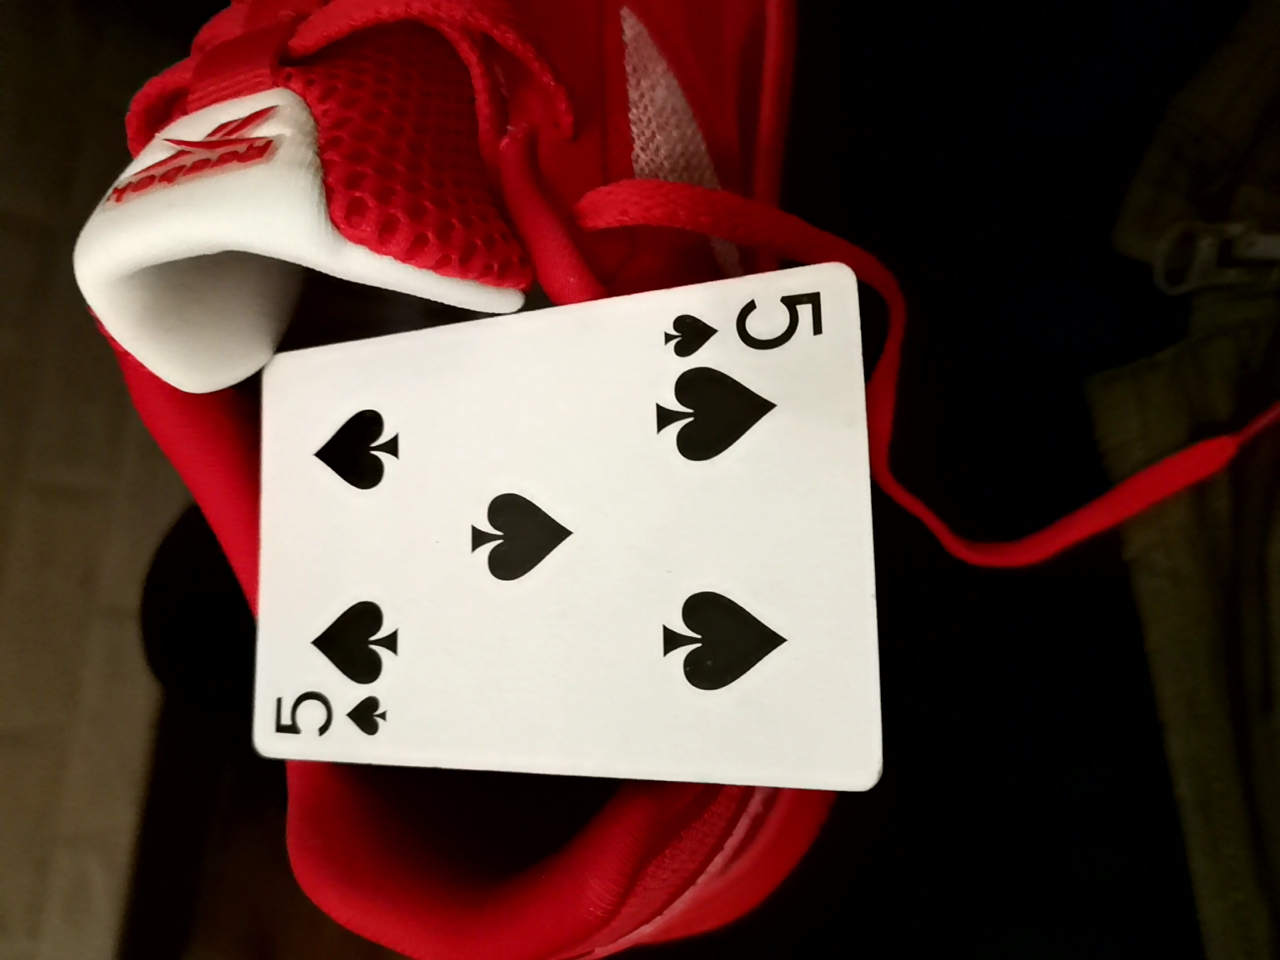ht 5: (246, 270, 888, 784)
